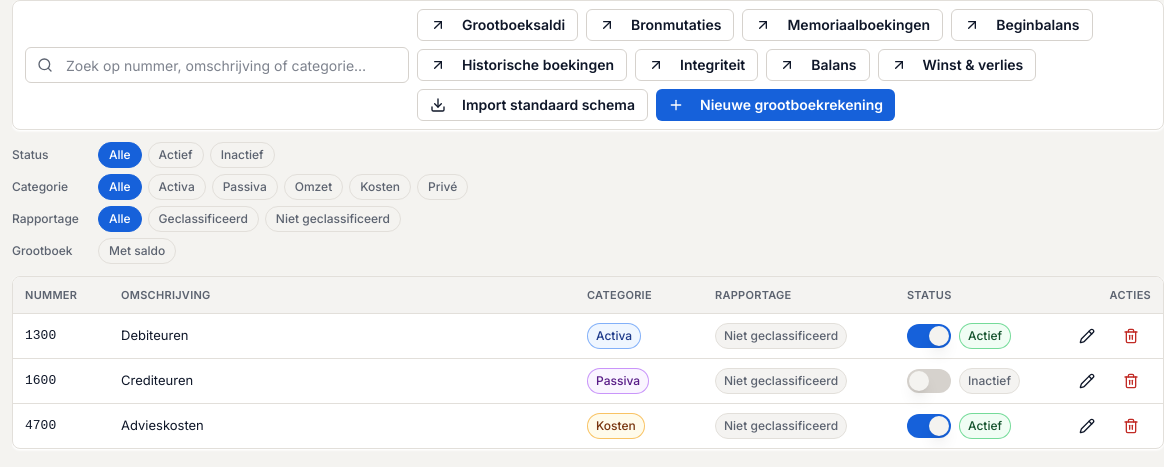
Test: Rekeningschema — zoeken en filters › zoekt op rekeningnummer
Step 1. Type "1300" into the field with placeholder "Zoek op nummer, omschrijving of categorie…" → [217, 65], box [25,47,409,83]
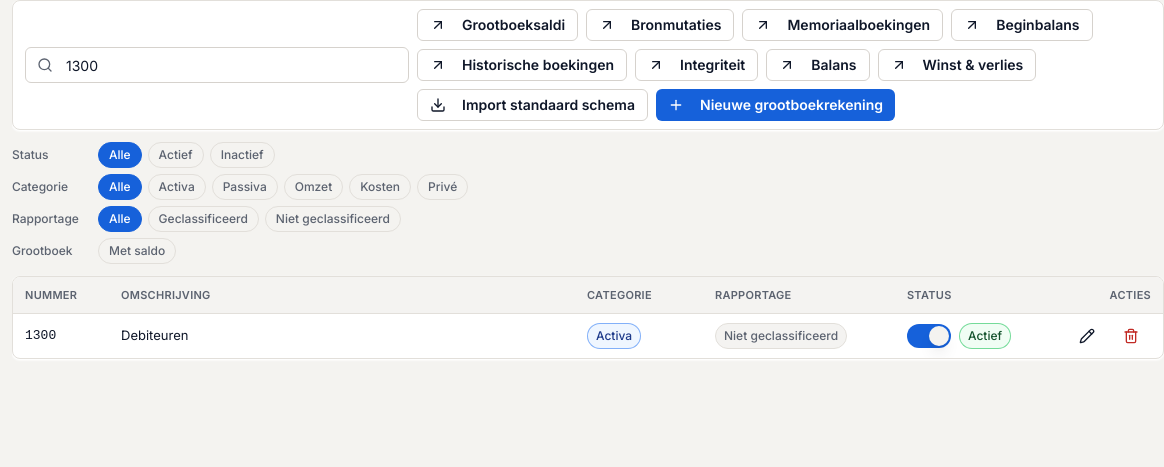
Expected: the text "Debiteuren" is shown, [109,313,575,358]
Expected: the text "Crediteuren" is gone
Expected: the text "Advieskosten" is gone
